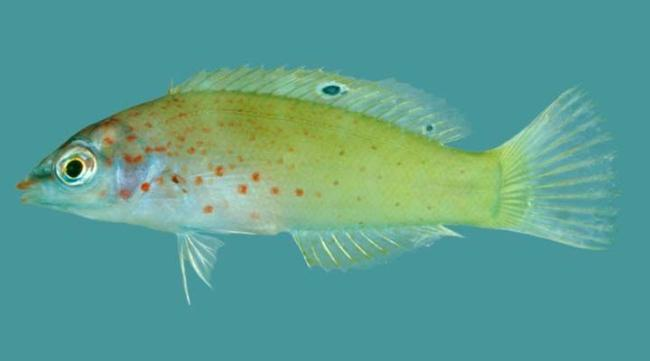fish: (18, 62, 620, 305)
